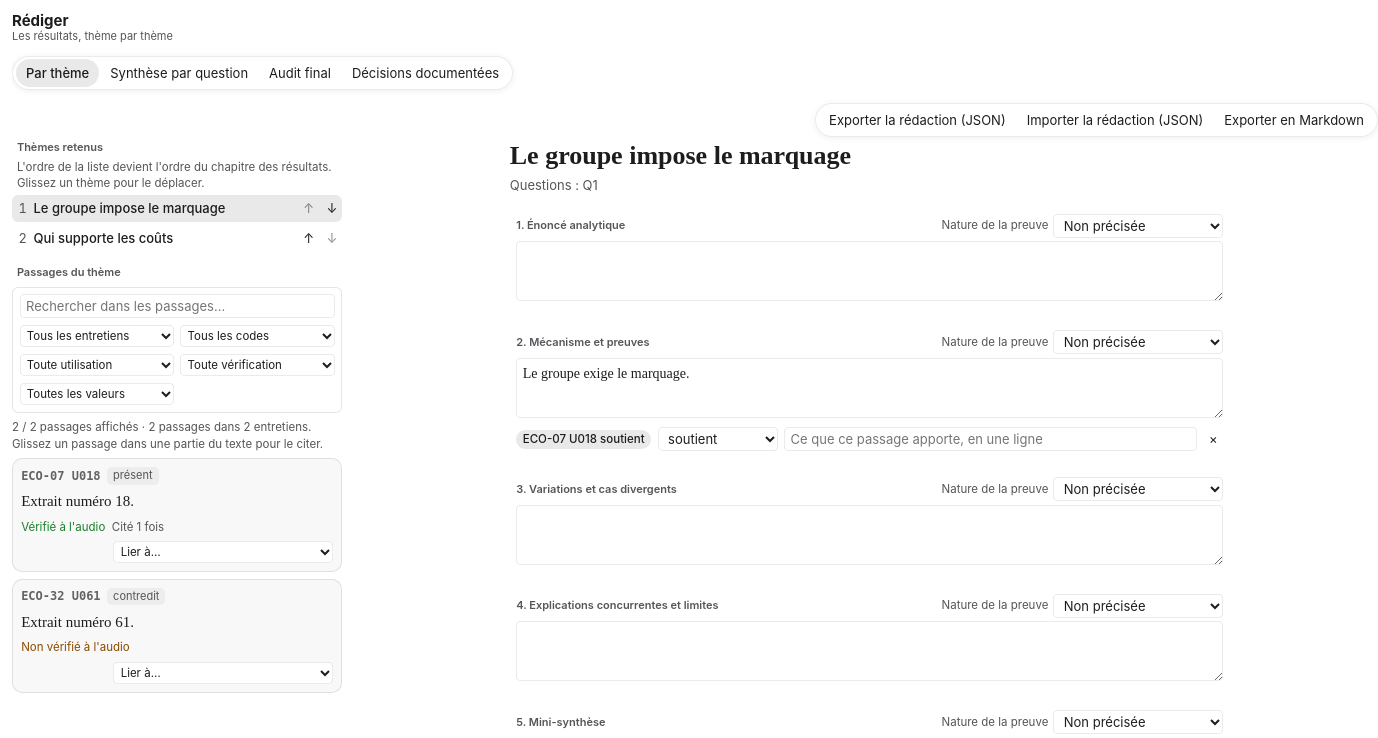
Scenario: Rédiger, par thème › combines passage text, interview, code, verification and matrix filters and can reset them
Expected: the text "Extrait numéro 61." is shown, [21,614,134,630]
Type "EXTRAIT numero" into the field labelled "Rechercher dans les passages…". click: (177, 306)
box: [20,294,334,318]
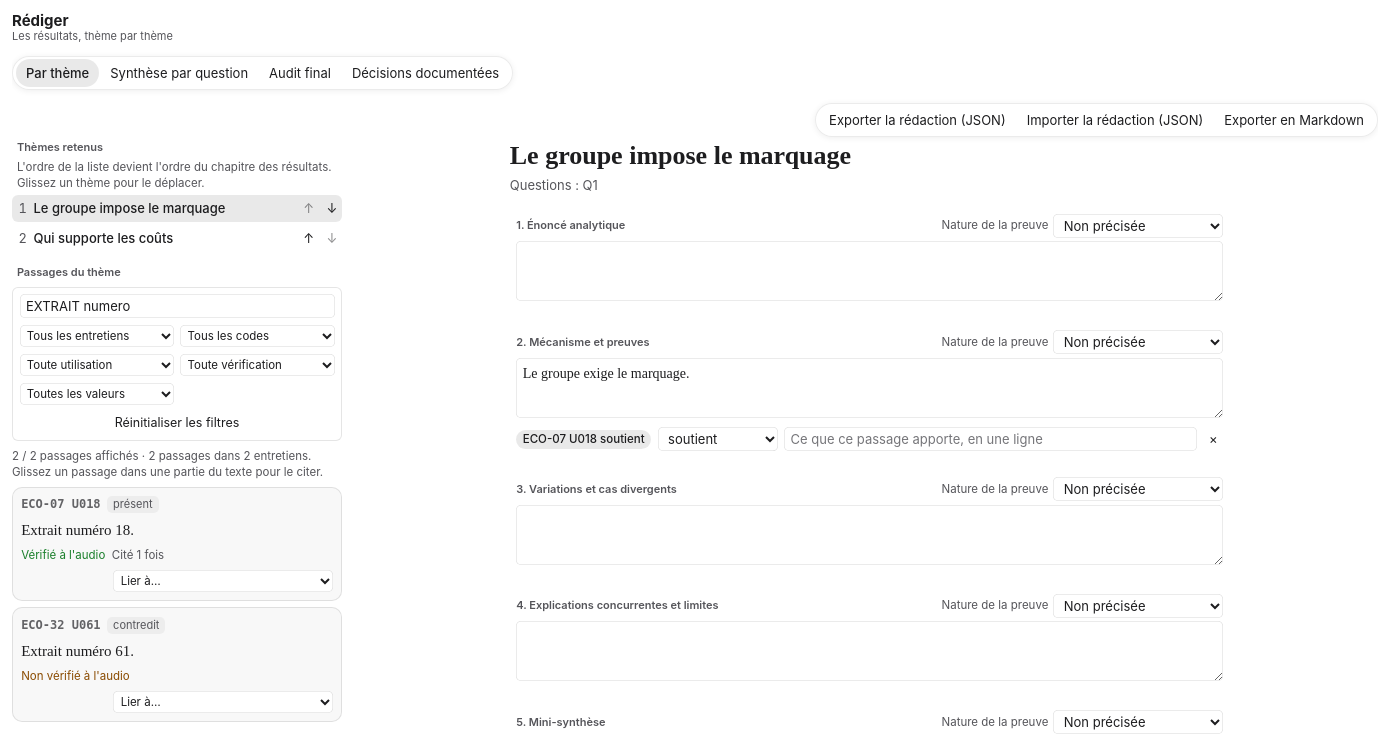
Select "ECO-32" in the dropdown named "Filtrer par entretien". click: (97, 336)
box: [20,325,174,347]
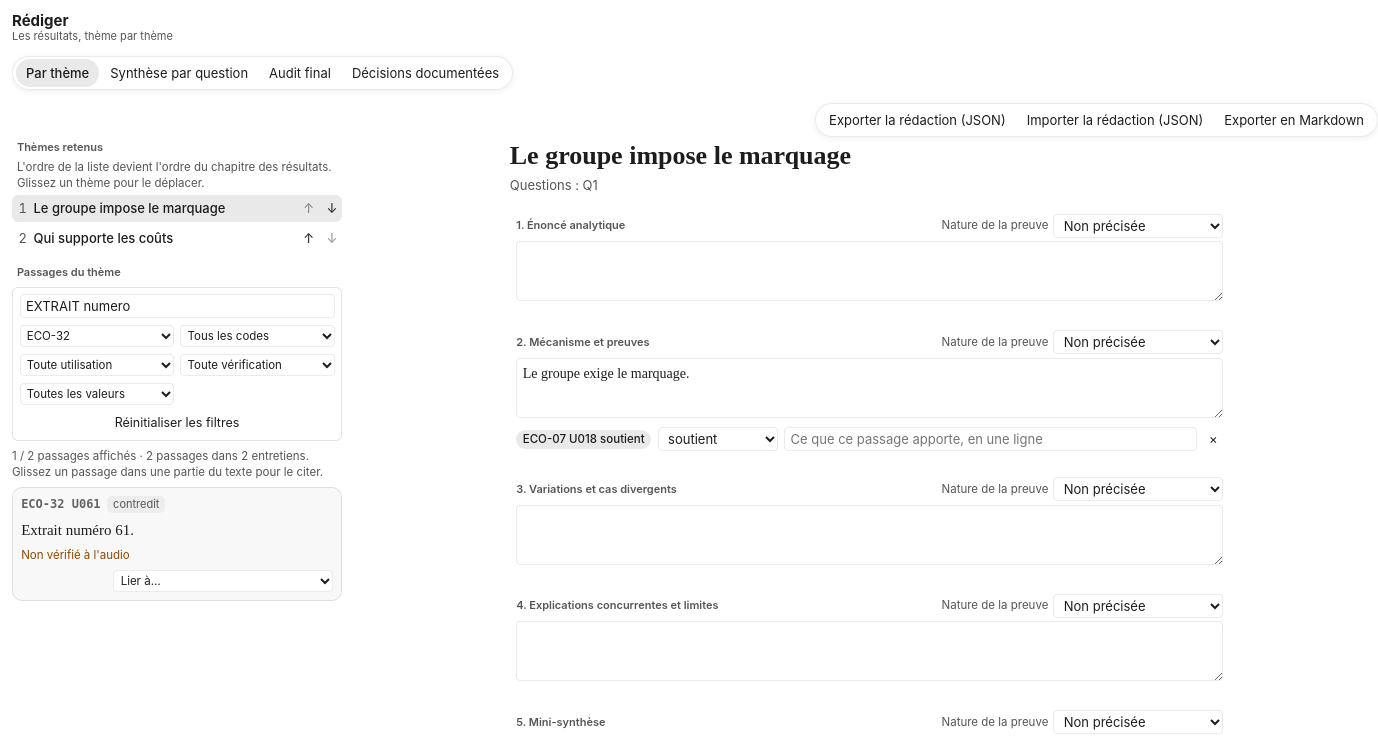
Select "Lot ou unité" in the dropdown named "Filtrer par code". click: (257, 336)
box: [180,325,335,347]
Select "Non vérifié à l'audio" in the dropdown named "Filtrer par vérification". click: (257, 365)
box: [180,354,335,376]
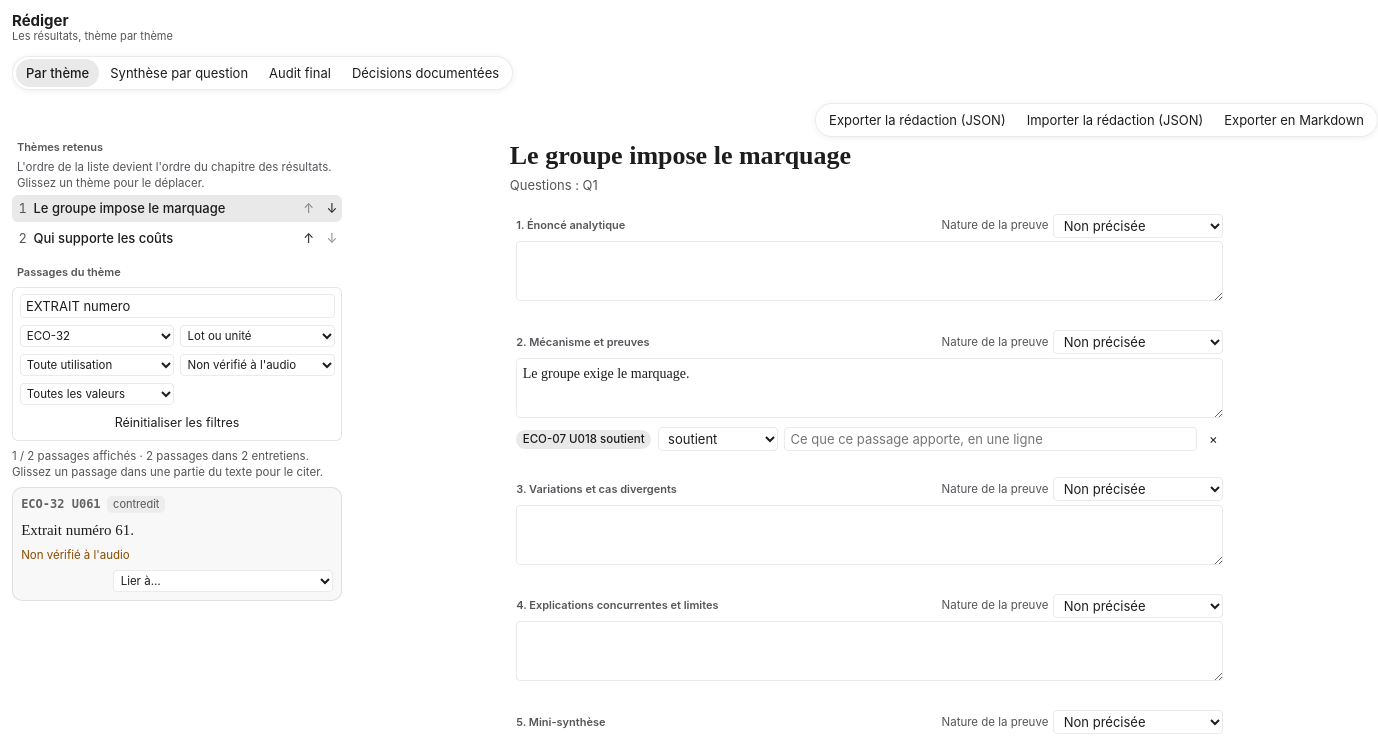
Select "contredit" in the dropdown named "Filtrer par valeur de matrice". click: (97, 394)
box: [20,383,174,405]
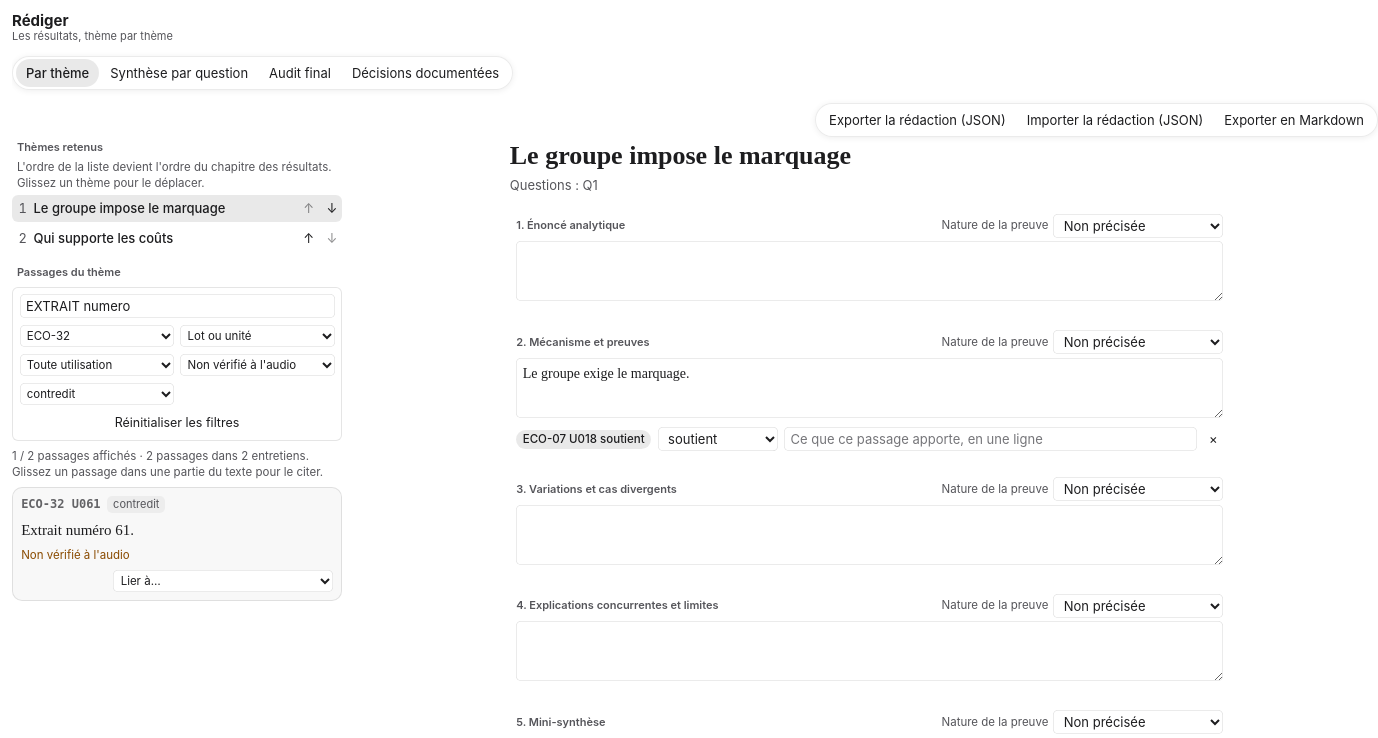
Expected: the text "Extrait numéro 61." is shown, [21,522,134,538]
Expected: the message shows "1 / 2 passages affichés", [12,449,136,463]
Select "Absence de besoin" in the dropdown named "Filtrer par code". click: (257, 336)
box: [180,325,335,347]
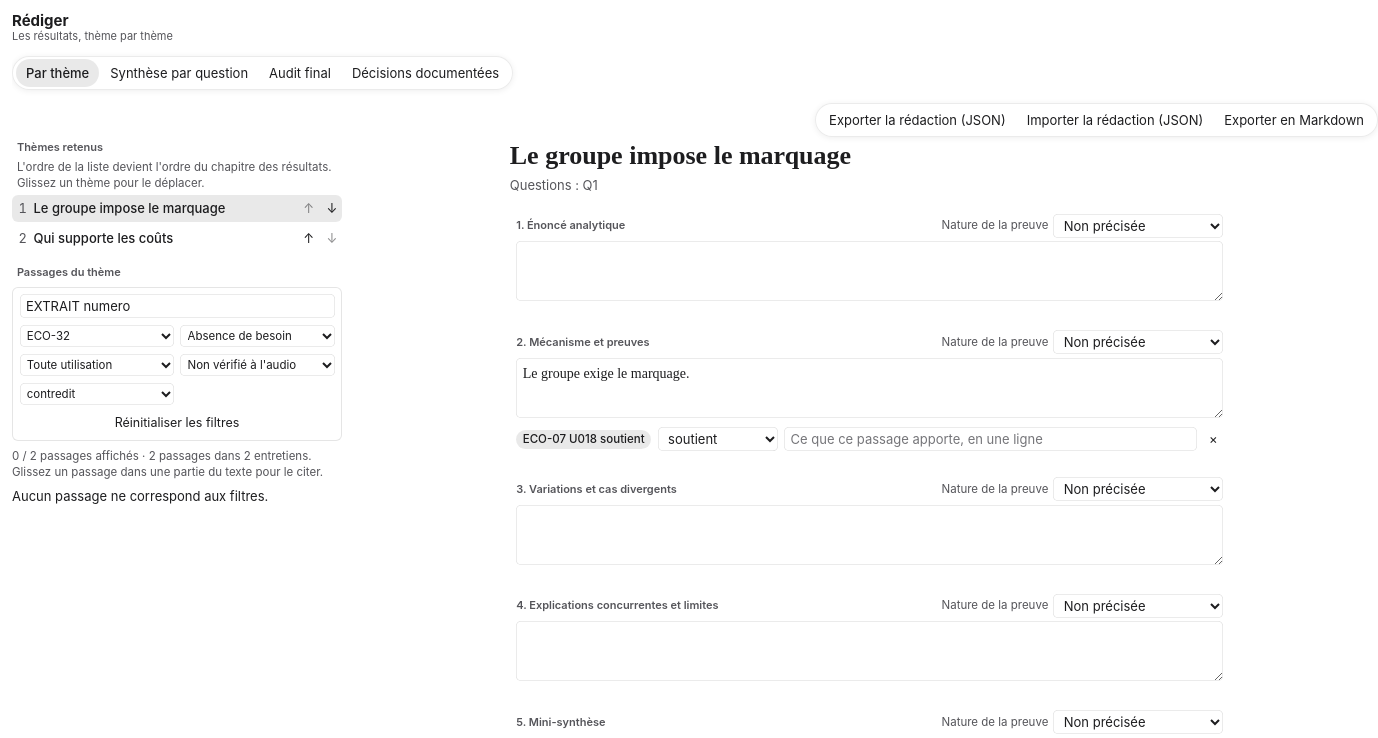
Expected: the text "Aucun passage ne correspond aux filtres." is shown, [12,488,268,504]
Click the button "Réinitialiser les filtres". click: (177, 423)
box: [20,412,334,434]
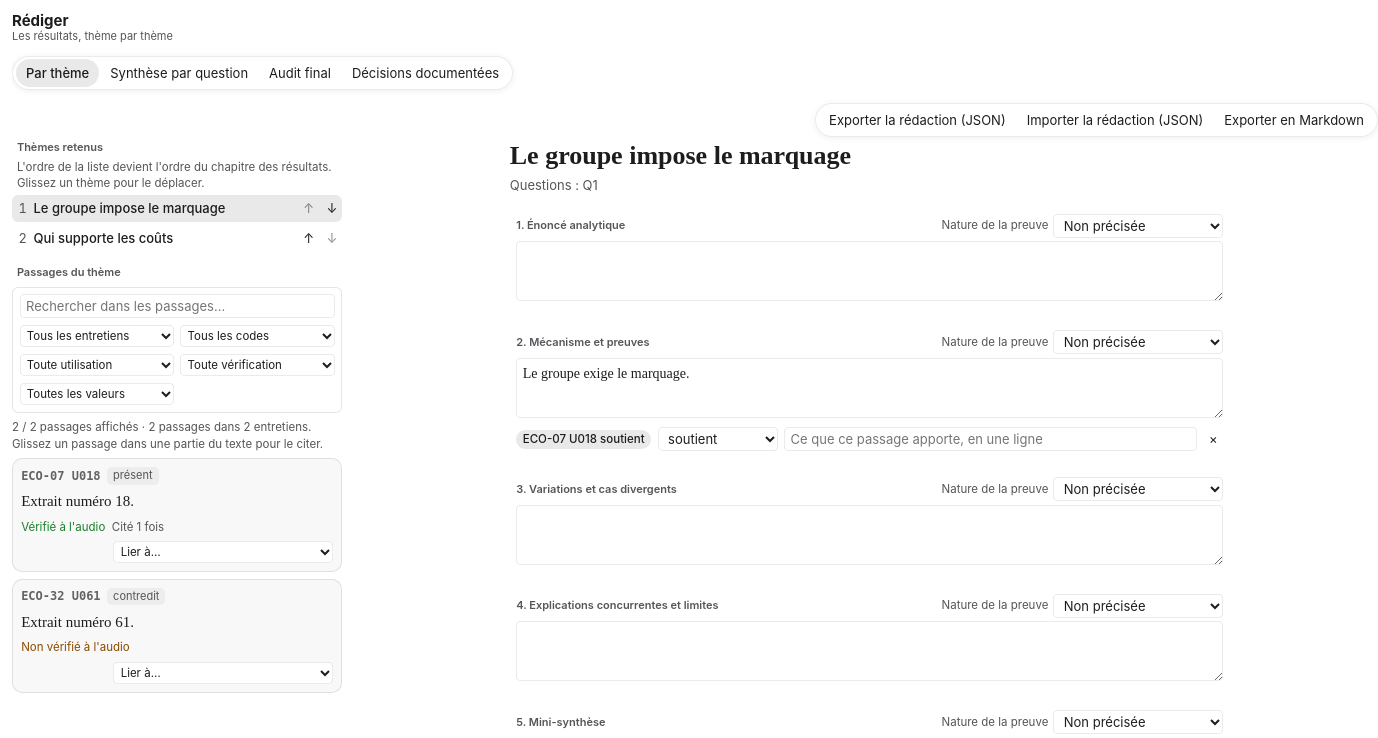
Expected: the text "Extrait numéro 18." is shown, [21,494,134,510]
Expected: the text "Extrait numéro 61." is shown, [21,614,134,630]
